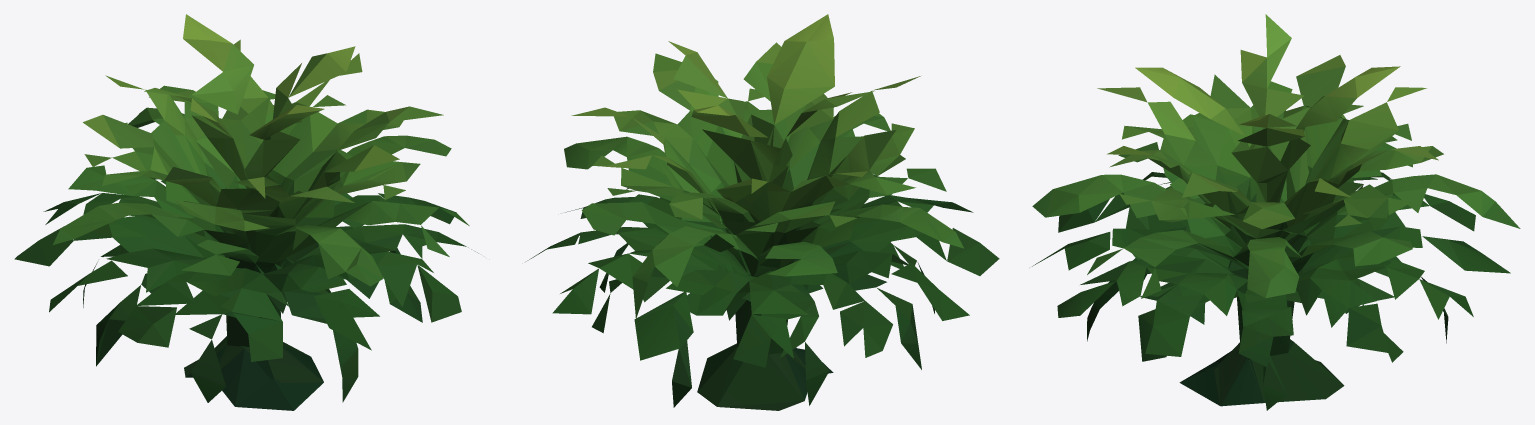
The picture shows the model from 3 angles, left to right: view 1: azimuth 30°, elevation 25°; view 2: azimuth 150°, elevation 25°; view 3: azimuth 270°, elevation 25°; orthographic projection.
Visible parts, largest first — view 1: output_unwrapped; view 2: output_unwrapped; view 3: output_unwrapped.
Part boxes in pixels (x1,y1,x2,y2): output_unwrapped: (14,14,478,410); output_unwrapped: (526,14,999,410); output_unwrapped: (1032,14,1520,410).
Size of the model in its own units: 1.76 by 1.3 by 1.83.
